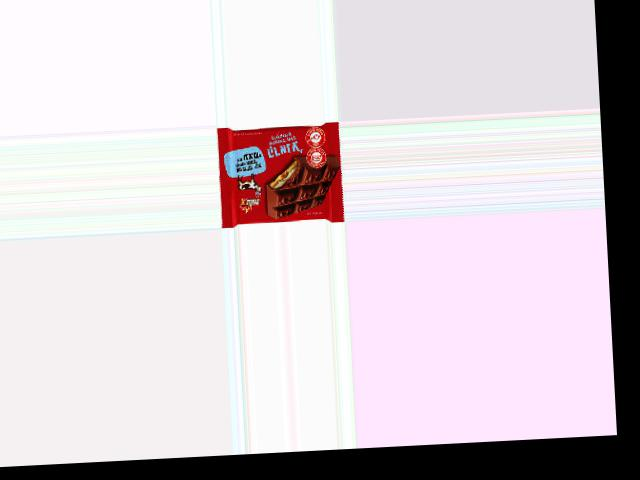chocolate: (220, 120, 342, 226)
